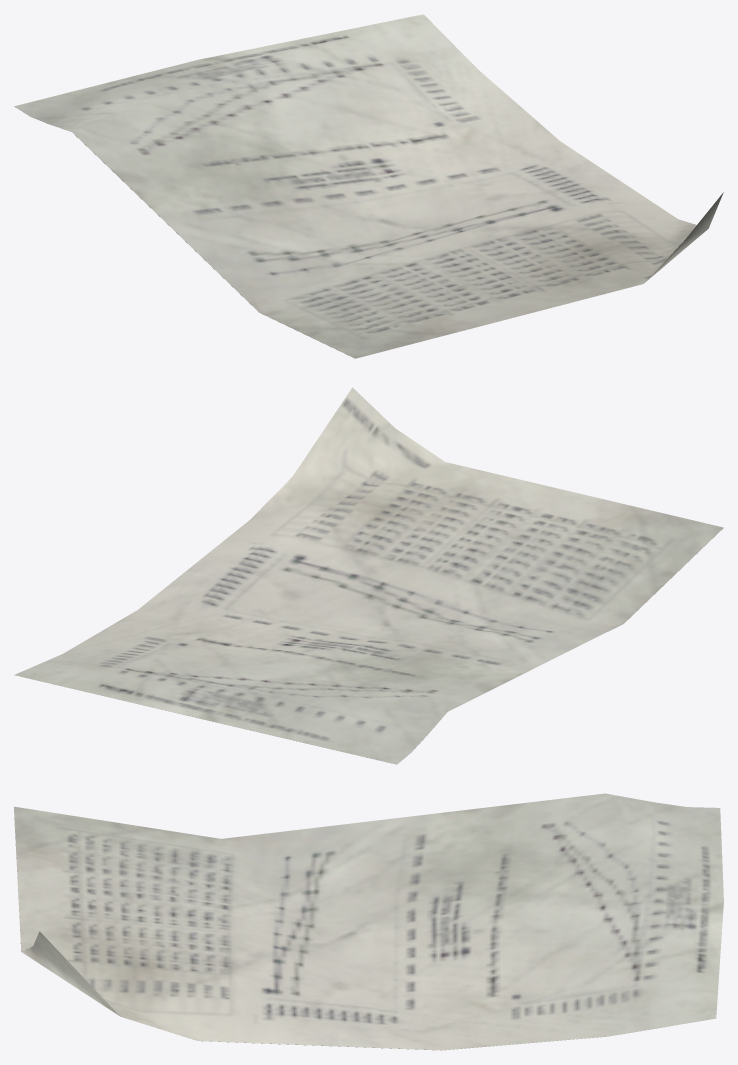
The model's file is Paper_Q.obj.
3 renders of one model, top to bottom at view 1: azimuth 30°, elevation 25°; view 2: azimuth 150°, elevation 25°; view 3: azimuth 270°, elevation 25°, orthographic. The views are drawn at different scales.
Visible parts, largest first — view 1: Paper_Q; view 2: Paper_Q; view 3: Paper_Q.
Boxes of the visible parts, box(x1,y1,x2,y2) form: Paper_Q: box(14, 14, 723, 358); Paper_Q: box(14, 387, 723, 764); Paper_Q: box(14, 793, 723, 1050).
Bounding box in the file's own units: 12.52 × 2.92 × 18.14.
